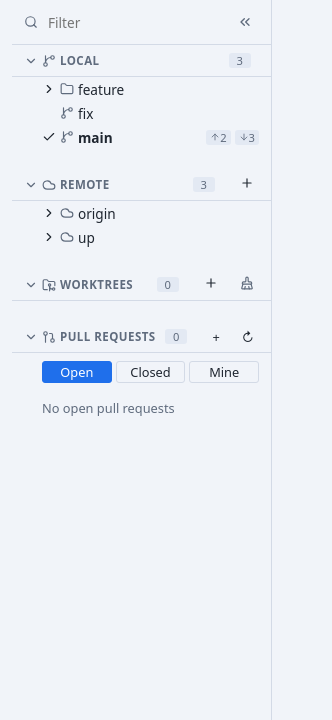
Test: Sidebar › remote filter matches the remote name and the tracking name
This screenshot has width=332, height=720.
Type "up" into the search field named "Filter sidebar" at (134, 22), box [46,12,223,32]
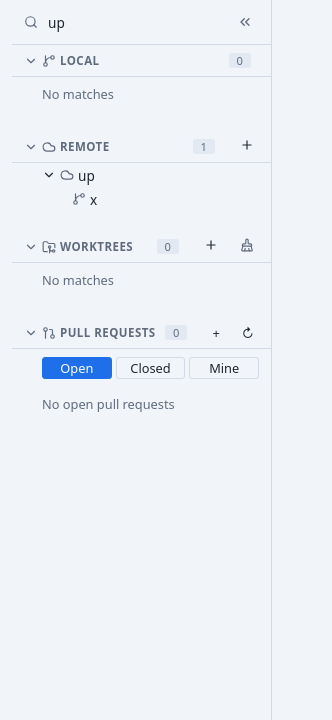
Expected: the text "x" is shown, [90,190,97,208]
Replace the text in the search field named "Filter sidebar" with "origin/dev" at (134, 22), box [46,12,223,32]
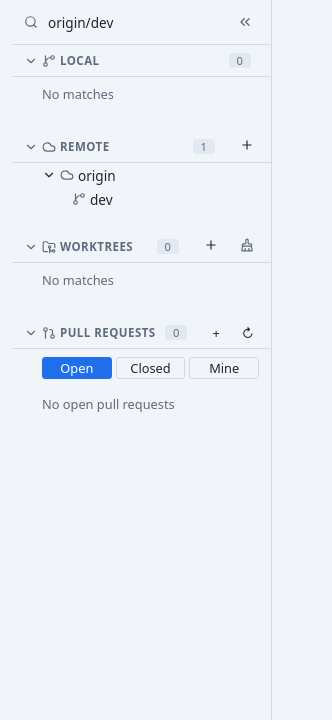
Expected: the text "main" is not shown
Result: the text "dev" is shown at [90,190,113,208]
Result: the text "up" is gone
